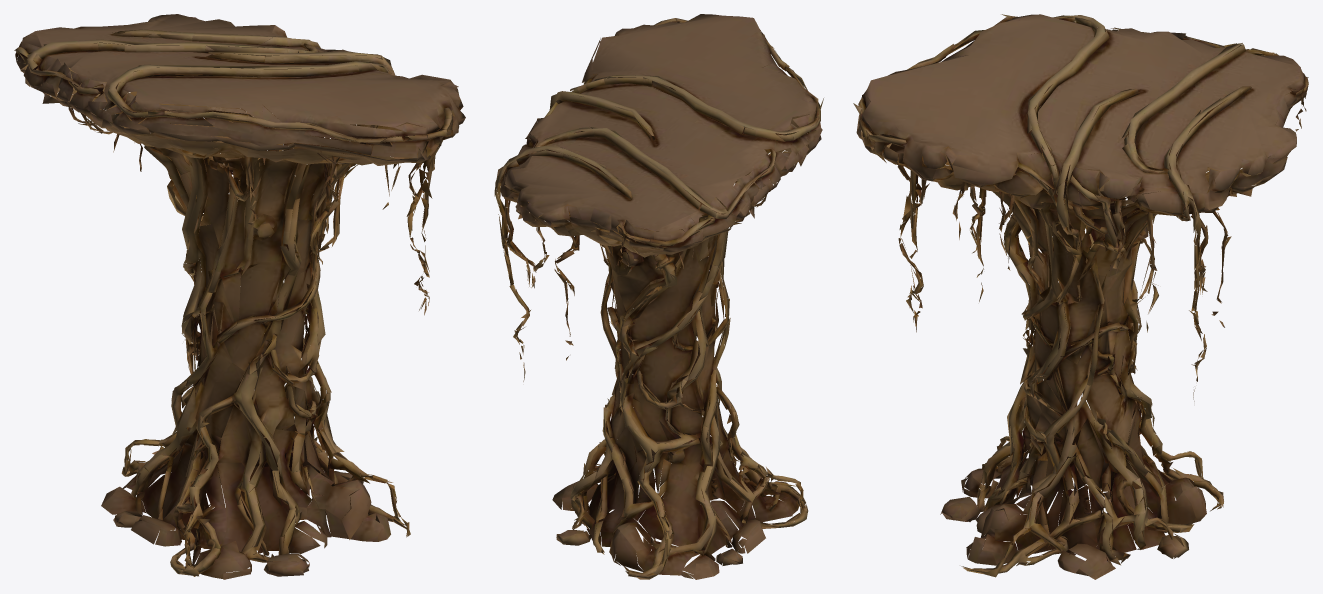
Rendered from jun_hanging_root_curtain_LOD1.glb.
3 renders of one model, left to right at view 1: azimuth 30°, elevation 25°; view 2: azimuth 150°, elevation 25°; view 3: azimuth 270°, elevation 25°, orthographic. The views are drawn at different scales.
Parts seen in each view (by area): view 1: tripo_node_cadc6c69-84e1-40cb-8351-e614b4902560; view 2: tripo_node_cadc6c69-84e1-40cb-8351-e614b4902560; view 3: tripo_node_cadc6c69-84e1-40cb-8351-e614b4902560.
Boxes of the visible parts, x1=… form: tripo_node_cadc6c69-84e1-40cb-8351-e614b4902560: x1=14, y1=14, x2=465, y2=579; tripo_node_cadc6c69-84e1-40cb-8351-e614b4902560: x1=494, y1=14, x2=823, y2=579; tripo_node_cadc6c69-84e1-40cb-8351-e614b4902560: x1=853, y1=14, x2=1308, y2=579.
Size of the model in its own units: 0.6569 by 1.01 by 0.9121.
1 material, 1 textured.
